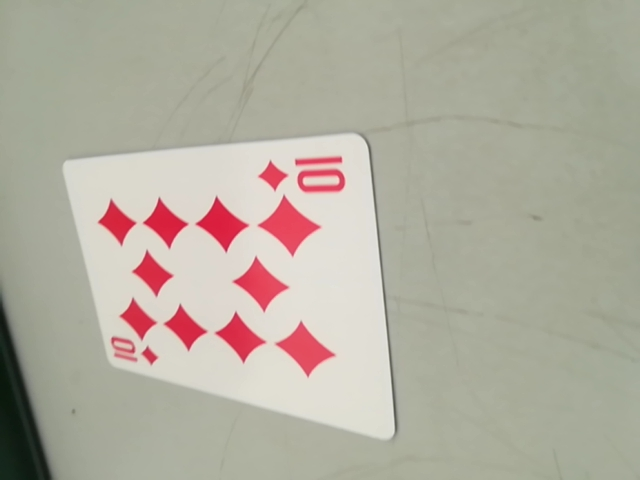fk 10: (260, 148, 358, 201), (108, 332, 165, 374)
